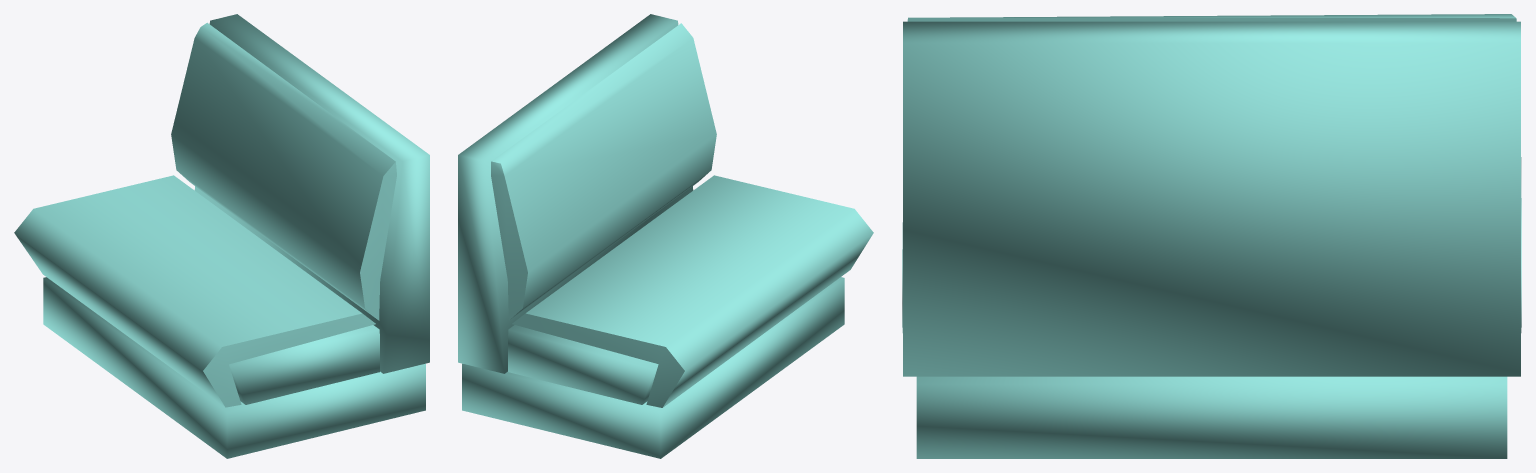
File: DinerChair_Collision.fbx
3 views of the same model, side by side, from view 1: azimuth 30°, elevation 25°; view 2: azimuth 150°, elevation 25°; view 3: azimuth 270°, elevation 25° (orthographic). The views are drawn at different scales.
Parts seen in each view (by area): view 1: DinerChair_Collision; view 2: DinerChair_Collision; view 3: DinerChair_Collision.
Boxes of the visible parts, box(x1,y1,x2,y2) form: DinerChair_Collision: box(14, 14, 429, 458); DinerChair_Collision: box(458, 14, 873, 458); DinerChair_Collision: box(902, 14, 1521, 458).
Bounding box in the file's own units: 0.9669 × 1.06 × 1.43.
